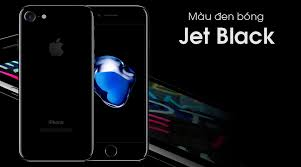iphone: (17, 5, 96, 166)
iphone7: (15, 3, 149, 164)
